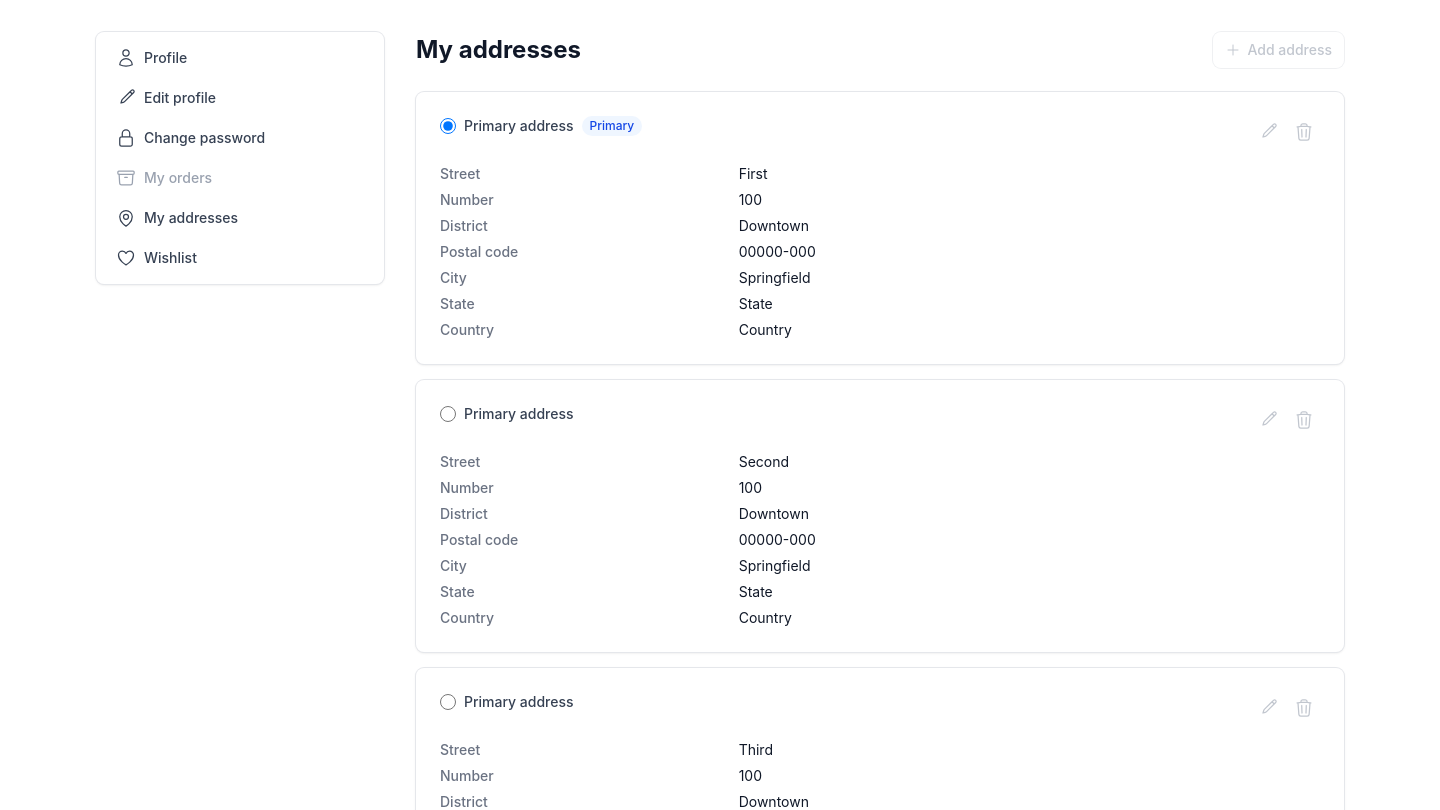
Test: AddressListPage › ignores a stale response once a newer selection has started
This screenshot has width=1440, height=810.
Click the radio button with aria-label "Set Second, 100 as primary address".
click(448, 414)  # box [440,406,456,422]
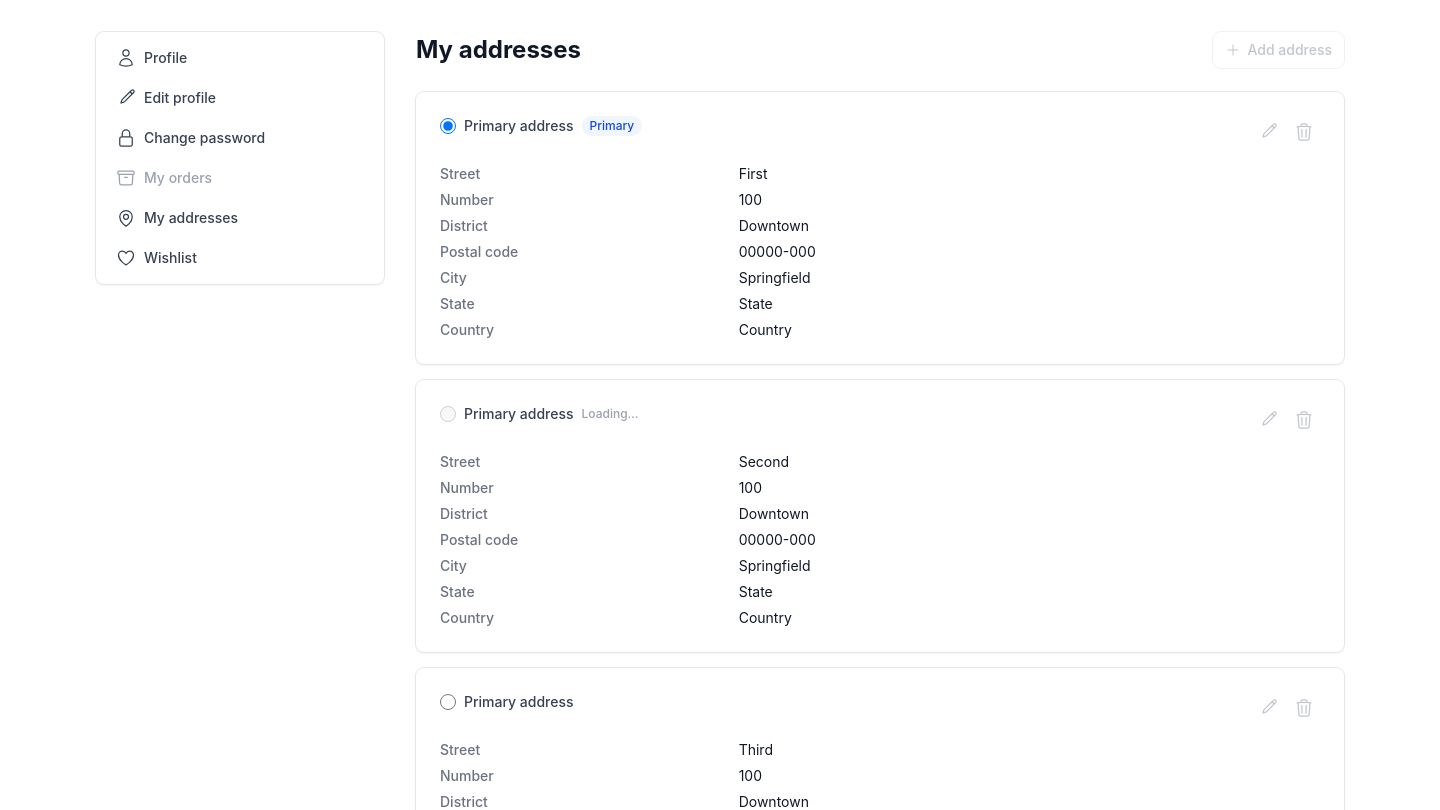
Click the radio button with aria-label "Set Third, 100 as primary address".
click(448, 702)  # box [440,694,456,710]
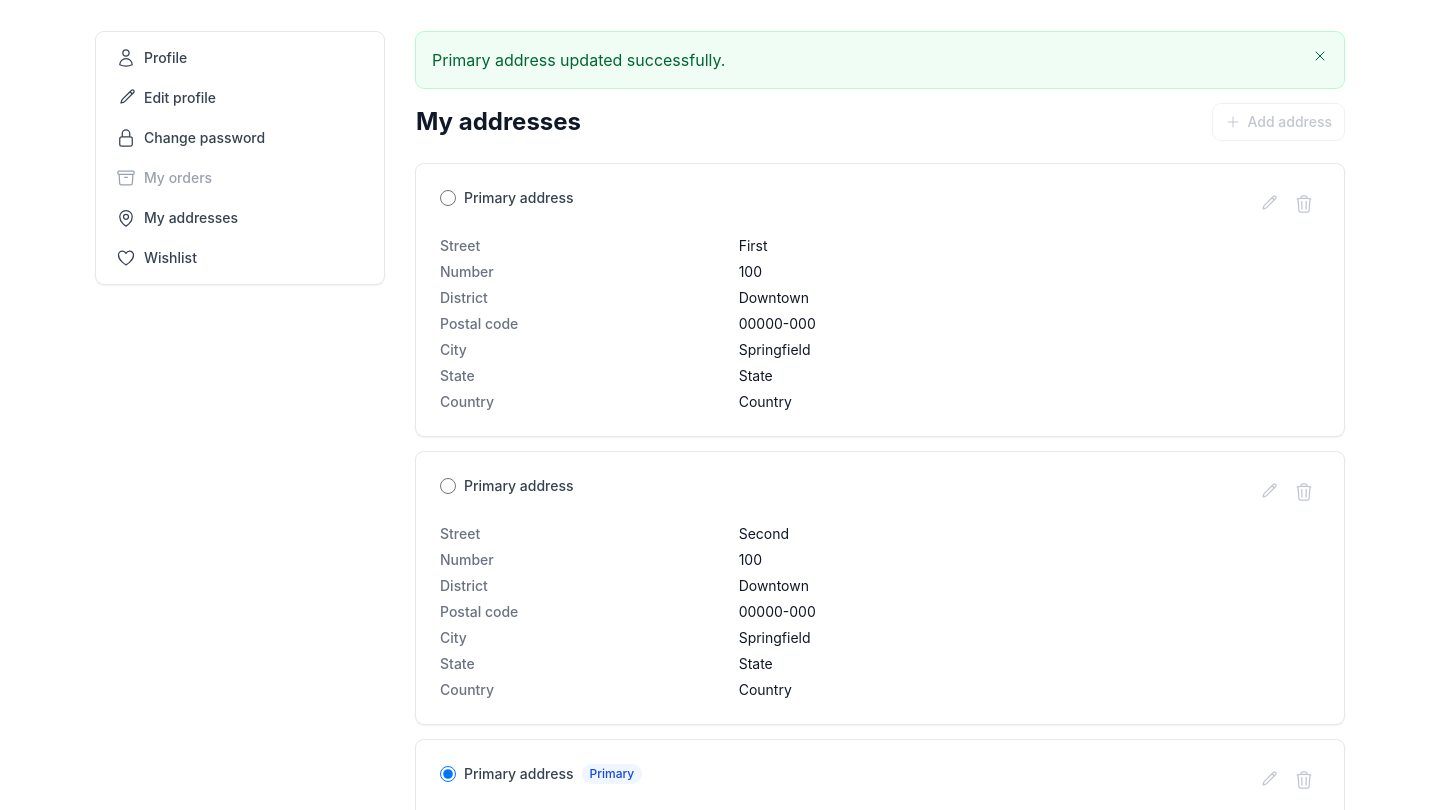
expect the radio button with aria-label "Set Second, 100 as primary address" is not checked: met, box [440,478,456,494]
expect the radio button with aria-label "Set Third, 100 as primary address" is checked: met, box [440,766,456,782]
expect the text "Primary address updated successfully." is shown: met, box [432,50,725,70]
